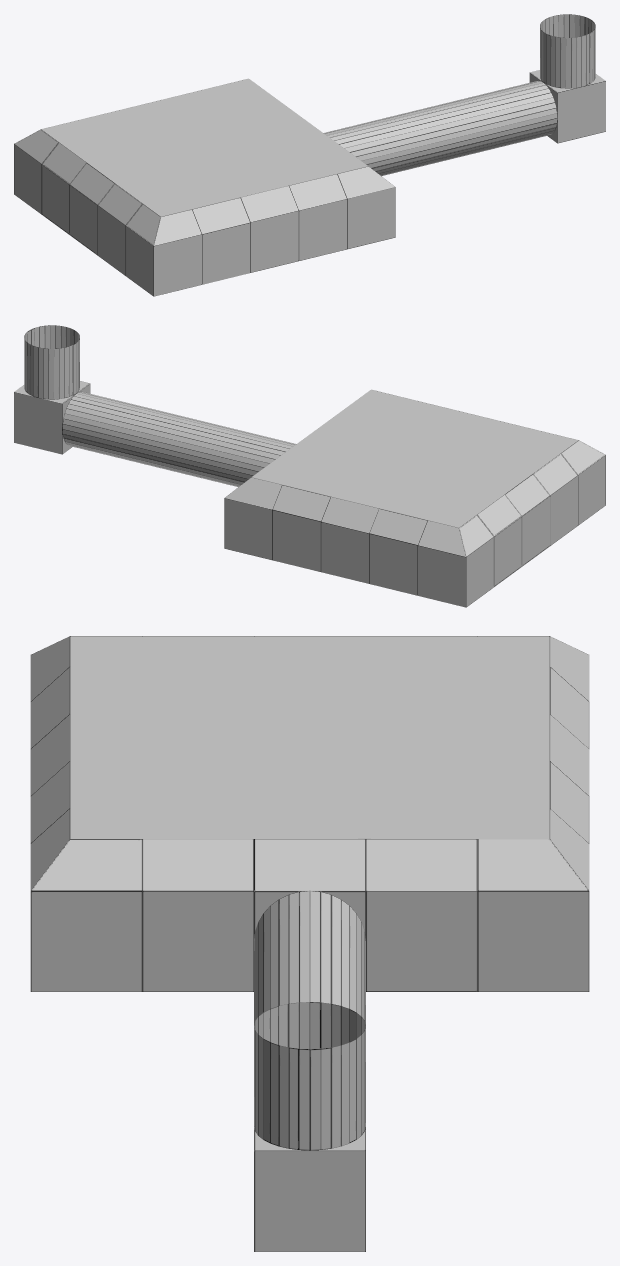
Rendered from cannon_frame.obj.
The picture shows the model from 3 angles, top to bottom: view 1: azimuth 30°, elevation 25°; view 2: azimuth 150°, elevation 25°; view 3: azimuth 270°, elevation 25°; orthographic projection. The views are drawn at different scales.
Visible parts, largest first — view 1: cannon_frame_Cube.002; view 2: cannon_frame_Cube.002; view 3: cannon_frame_Cube.002.
Boxes of the visible parts, bbox=[...] form: cannon_frame_Cube.002: bbox=[14, 14, 605, 296]; cannon_frame_Cube.002: bbox=[14, 325, 605, 607]; cannon_frame_Cube.002: bbox=[30, 636, 589, 1251].
Bounding box in the file's own units: 21 × 4 × 10.
1 material, 1 textured.
